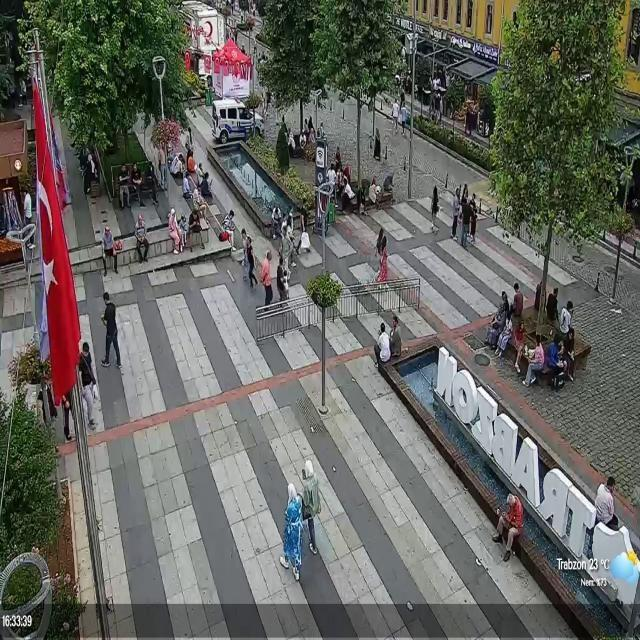Van: (212, 97, 268, 146)
